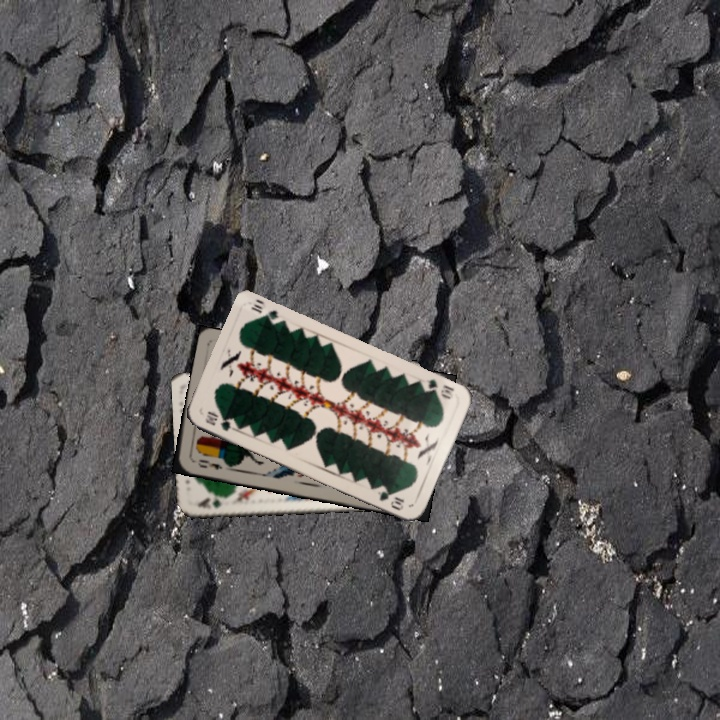EO: (194, 455, 225, 472)
G10: (418, 375, 457, 402), (201, 408, 233, 434)
GK: (191, 493, 232, 511)
